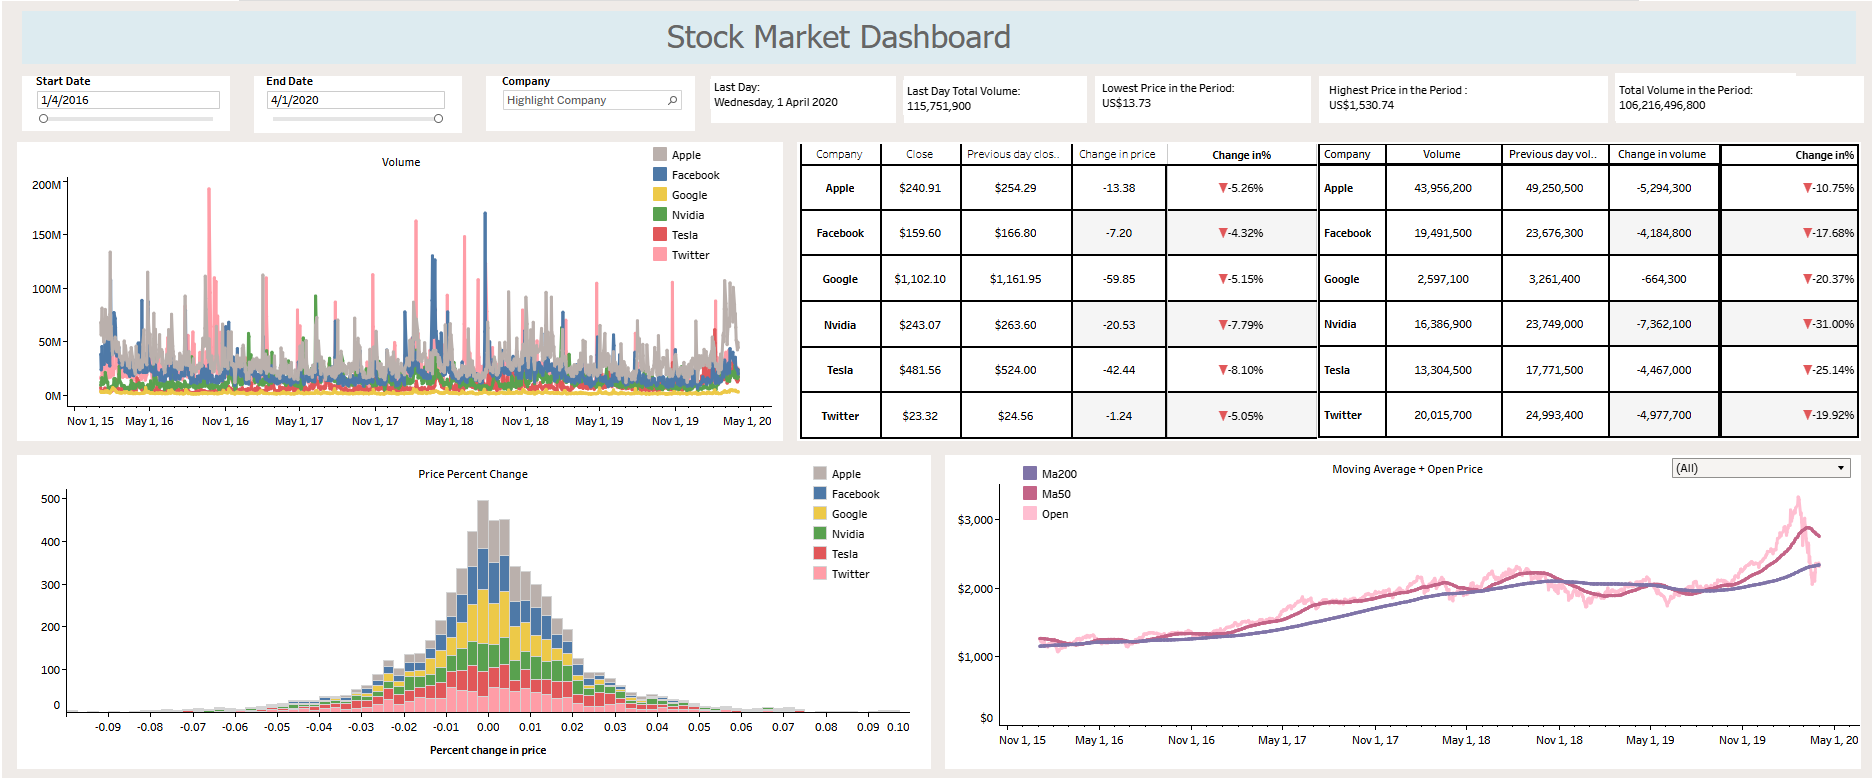

The page's visual inventory and layout, read from the dashboard file:
{"tool":"tableau","page":{"name":"Dashboard 1","canvas":[1000,1000],"units":"permille","ordinal":0},"visuals":[{"type":"blank","box":[4.8,9.7,990.3,70.3]},{"type":"text","box":[354.9,14.6,264.3,59.4]},{"type":"blank","box":[4.8,80,123.8,90.9]},{"type":"blank","box":[128.6,80,123.8,90.9]},{"type":"blank","box":[252.4,80,123.8,90.9]},{"type":"blank","box":[376.2,80,103,90.9]},{"type":"blank","box":[479.2,80,102,90.9]},{"type":"blank","box":[581.1,80,119.5,90.9]},{"type":"blank","box":[700.6,80,158.1,90.9]},{"type":"blank","box":[858.8,80,136.4,90.9]},{"type":"parameter","param":"[Parameters].[Parameter 1]","box":[18.1,92.1,99,84.9]},{"type":"parameter","param":"[Parameters].[Parameter 2]","box":[140.6,92.1,96.6,82.4]},{"type":"highlighter","title":"Volume","param":"[federated.02ka9us0l8gk2414ol9q11wdmvfj].[none:Table Name:nk]","box":[266.8,92.1,96.6,80]},{"type":"worksheet","title":"Total Volume in the Period","mark":"Automatic","box":[860.6,92.1,126.1,80]},{"type":"worksheet","title":"Last Day","mark":"Automatic","box":[377.8,99.4,108.6,59.4]},{"type":"worksheet","title":"Highest Price in the Period ","mark":"Automatic","box":[706.1,99.4,115.3,58.2]},{"type":"worksheet","title":"Last Day Total Volume","mark":"Automatic","box":[481,100.6,97.8,59.4]},{"type":"worksheet","title":"Lowest Price in the Period","mark":"Automatic","box":[584.8,100.6,116.5,61.8]},{"type":"blank","box":[4.8,170.9,415.8,400]},{"type":"blank","box":[420.6,170.9,574.6,400]},{"type":"worksheet","title":"Detailed Price Table","mark":"Automatic","rows":["Table Name","Close","Previous day close price","Change in price"],"box":[425.5,181.8,276.4,377]},{"type":"worksheet","title":"Detailed Volume Table","mark":"Automatic","rows":["Table Name","Volume","Previous day volume","Change in volume"],"box":[701.9,181.8,289.1,375.8]},{"type":"legend","title":"Volume","param":"[federated.02ka9us0l8gk2414ol9q11wdmvfj].[none:Table Name:nk]","box":[345.8,183,60.4,168.5]},{"type":"worksheet","title":"Volume","mark":"Automatic","rows":["Volume"],"cols":["Date"],"box":[15.1,186.7,395.9,368.5]},{"type":"blank","box":[4.8,570.9,494.9,419.4]},{"type":"blank","box":[499.7,570.9,495.5,419.4]},{"type":"worksheet","title":"Moving Average + Open Price","mark":"Automatic","cols":["Date"],"box":[508.8,578.2,482.8,384.2]},{"type":"filter","title":"Moving Average + Open Price","param":"[federated.02ka9us0l8gk2414ol9q11wdmvfj].[none:Table Name:nk]","box":[890.8,584.2,96.6,38.8]},{"type":"worksheet","title":"Price Percent Change","mark":"Automatic","rows":["Percent change in price"],"cols":["Percent change in price (bin)"],"box":[18.1,585.5,466.5,387.9]},{"type":"legend","title":"Price Percent Change","param":"[federated.02ka9us0l8gk2414ol9q11wdmvfj].[none:Table Name:nk]","box":[430.9,590.3,60.4,168.5]},{"type":"legend","title":"Moving Average + Open Price","param":"[federated.02ka9us0l8gk2414ol9q11wdmvfj].[:Measure Names]","box":[543.1,590.3,51.9,83.6]}]}

Visuals, with their boxes on the dashboard's canvas, which has no fixed pixel size, in thousandths of its width and height (x1, y1, x2, y2). These are canvas units, not pixel positions in the 1872x778 screenshot, which may show the page scaled, cropped or inside an application window:
blank: {"left": 5, "top": 10, "right": 995, "bottom": 80}
text: {"left": 355, "top": 15, "right": 619, "bottom": 74}
blank: {"left": 5, "top": 80, "right": 129, "bottom": 171}
blank: {"left": 129, "top": 80, "right": 252, "bottom": 171}
blank: {"left": 252, "top": 80, "right": 376, "bottom": 171}
blank: {"left": 376, "top": 80, "right": 479, "bottom": 171}
blank: {"left": 479, "top": 80, "right": 581, "bottom": 171}
blank: {"left": 581, "top": 80, "right": 701, "bottom": 171}
blank: {"left": 701, "top": 80, "right": 859, "bottom": 171}
blank: {"left": 859, "top": 80, "right": 995, "bottom": 171}
parameter: {"left": 18, "top": 92, "right": 117, "bottom": 177}
parameter: {"left": 141, "top": 92, "right": 237, "bottom": 174}
"Volume" highlighter: {"left": 267, "top": 92, "right": 363, "bottom": 172}
"Total Volume in the Period" worksheet: {"left": 861, "top": 92, "right": 987, "bottom": 172}
"Last Day" worksheet: {"left": 378, "top": 99, "right": 486, "bottom": 159}
"Highest Price in the Period " worksheet: {"left": 706, "top": 99, "right": 821, "bottom": 158}
"Last Day Total Volume" worksheet: {"left": 481, "top": 101, "right": 579, "bottom": 160}
"Lowest Price in the Period" worksheet: {"left": 585, "top": 101, "right": 701, "bottom": 162}
blank: {"left": 5, "top": 171, "right": 421, "bottom": 571}
blank: {"left": 421, "top": 171, "right": 995, "bottom": 571}
"Detailed Price Table" worksheet: {"left": 426, "top": 182, "right": 702, "bottom": 559}
"Detailed Volume Table" worksheet: {"left": 702, "top": 182, "right": 991, "bottom": 558}
"Volume" legend: {"left": 346, "top": 183, "right": 406, "bottom": 352}
"Volume" worksheet: {"left": 15, "top": 187, "right": 411, "bottom": 555}
blank: {"left": 5, "top": 571, "right": 500, "bottom": 990}
blank: {"left": 500, "top": 571, "right": 995, "bottom": 990}
"Moving Average + Open Price" worksheet: {"left": 509, "top": 578, "right": 992, "bottom": 962}
"Moving Average + Open Price" filter: {"left": 891, "top": 584, "right": 987, "bottom": 623}
"Price Percent Change" worksheet: {"left": 18, "top": 586, "right": 485, "bottom": 973}
"Price Percent Change" legend: {"left": 431, "top": 590, "right": 491, "bottom": 759}
"Moving Average + Open Price" legend: {"left": 543, "top": 590, "right": 595, "bottom": 674}
